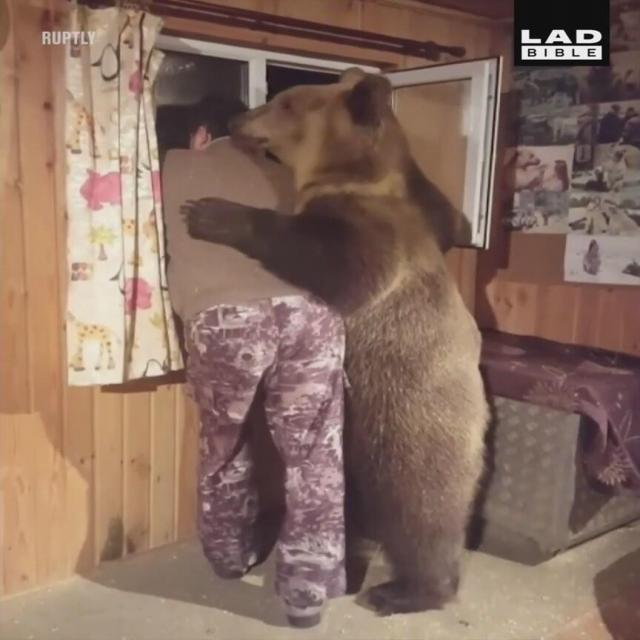Bear: (176, 71, 493, 617)
